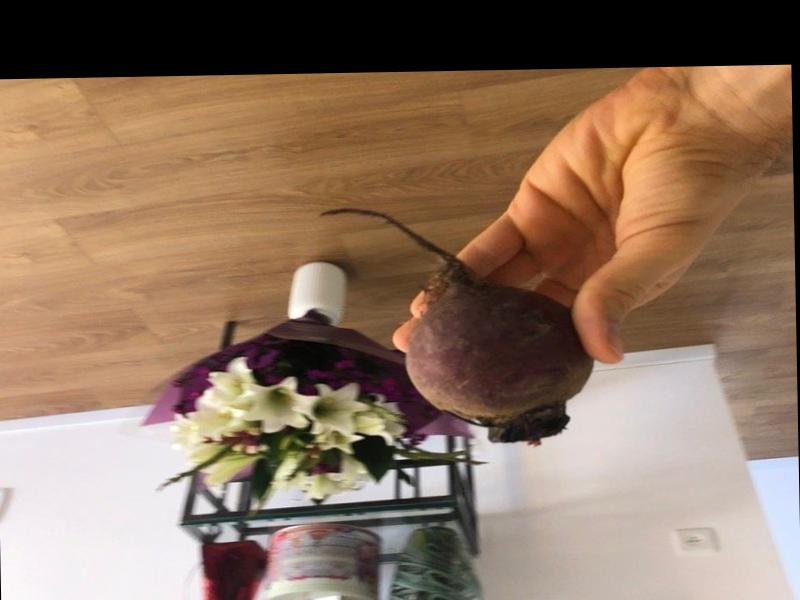Beet: (314, 204, 594, 447)
